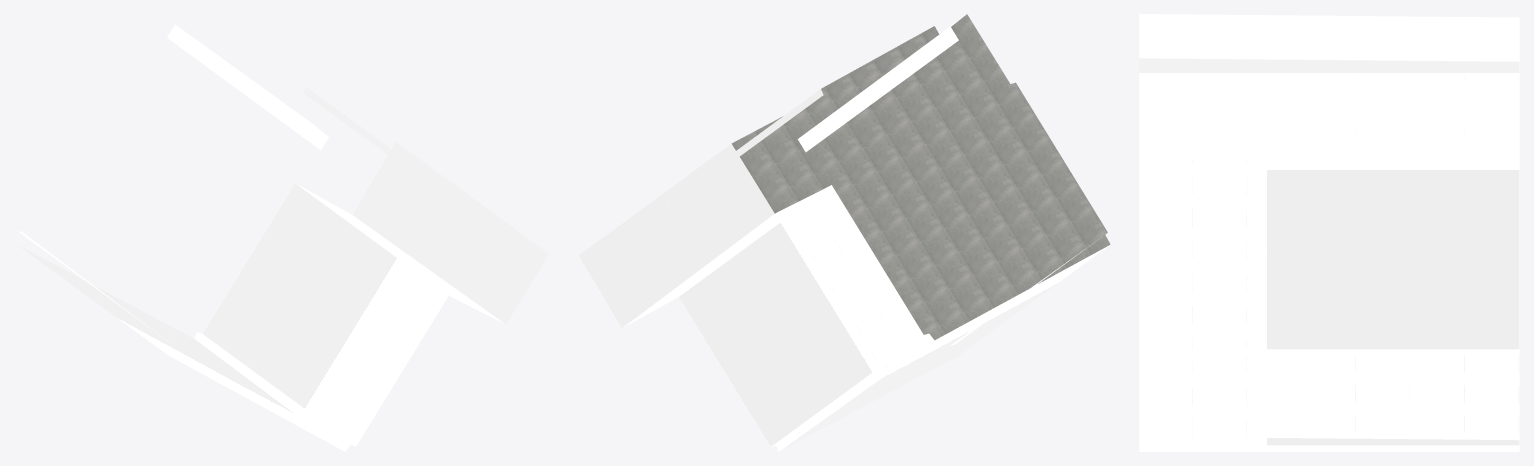
3 renders of one model, left to right at view 1: azimuth 30°, elevation 25°; view 2: azimuth 150°, elevation 25°; view 3: azimuth 270°, elevation 25°, orthographic. The views are drawn at different scales.
Visible parts, largest first — view 1: BuildingMaster_1984194086894462411900000000_0; view 2: BuildingMaster_1984194086894462411900000000_0, BuildingMaster_1984194086894462411900000000_1; view 3: BuildingMaster_1984194086894462411900000000_0.
Boxes of the visible parts, x1,y1,x2,y2 form: BuildingMaster_1984194086894462411900000000_0: [15, 24, 549, 451]; BuildingMaster_1984194086894462411900000000_0: [578, 16, 1109, 451]; BuildingMaster_1984194086894462411900000000_1: [731, 14, 1110, 340]; BuildingMaster_1984194086894462411900000000_0: [1139, 14, 1519, 451].
Size of the model in its own units: 35 by 29.5 by 24.5.
